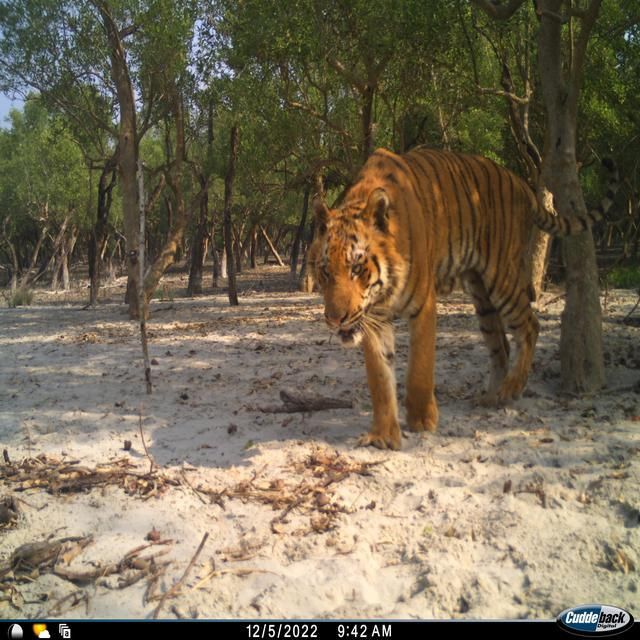tiger: (304, 143, 629, 451)
